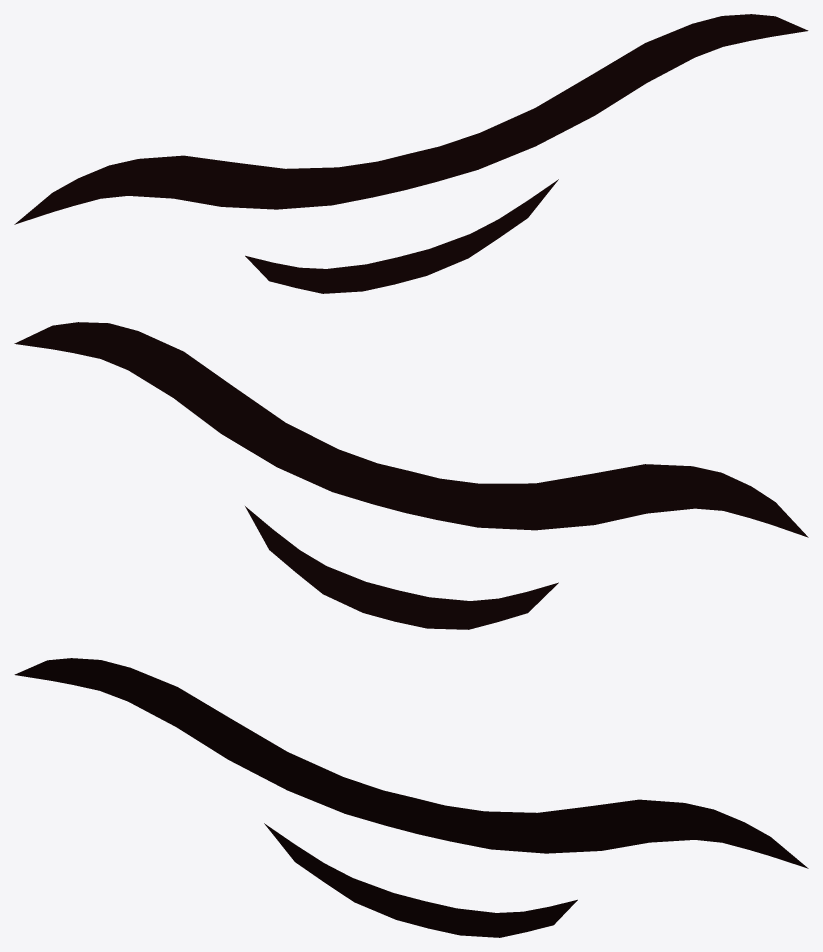
The model's file is flip_b_m_p.glb.
3 renders of one model, top to bottom at view 1: azimuth 30°, elevation 25°; view 2: azimuth 150°, elevation 25°; view 3: azimuth 330°, elevation 25°, orthographic.
Parts seen in each view (by area): view 1: flip_b_m_p; view 2: flip_b_m_p; view 3: flip_b_m_p.
Part boxes in pixels (x1,y1,x2,y2): flip_b_m_p: (14,14,808,293); flip_b_m_p: (14,322,808,629); flip_b_m_p: (14,658,808,937).
Size of the model in its own units: 0.1061 by 0.0266 by 0.00474.
